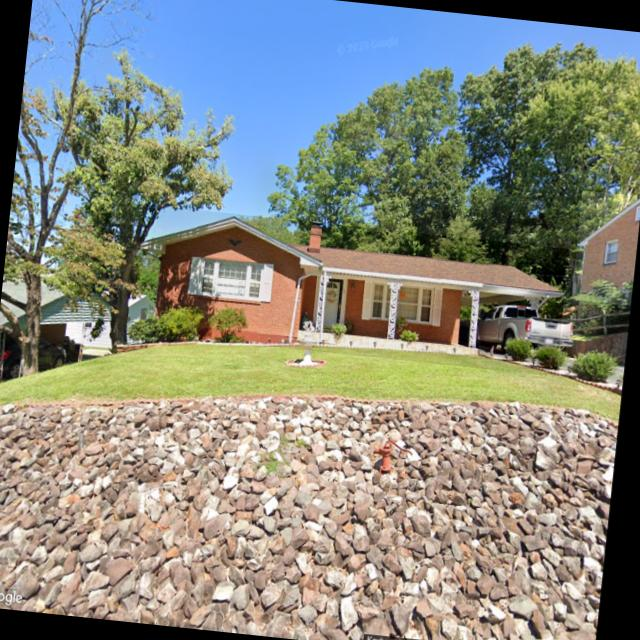House: (130, 204, 569, 376), (0, 274, 157, 396), (570, 190, 640, 305)
